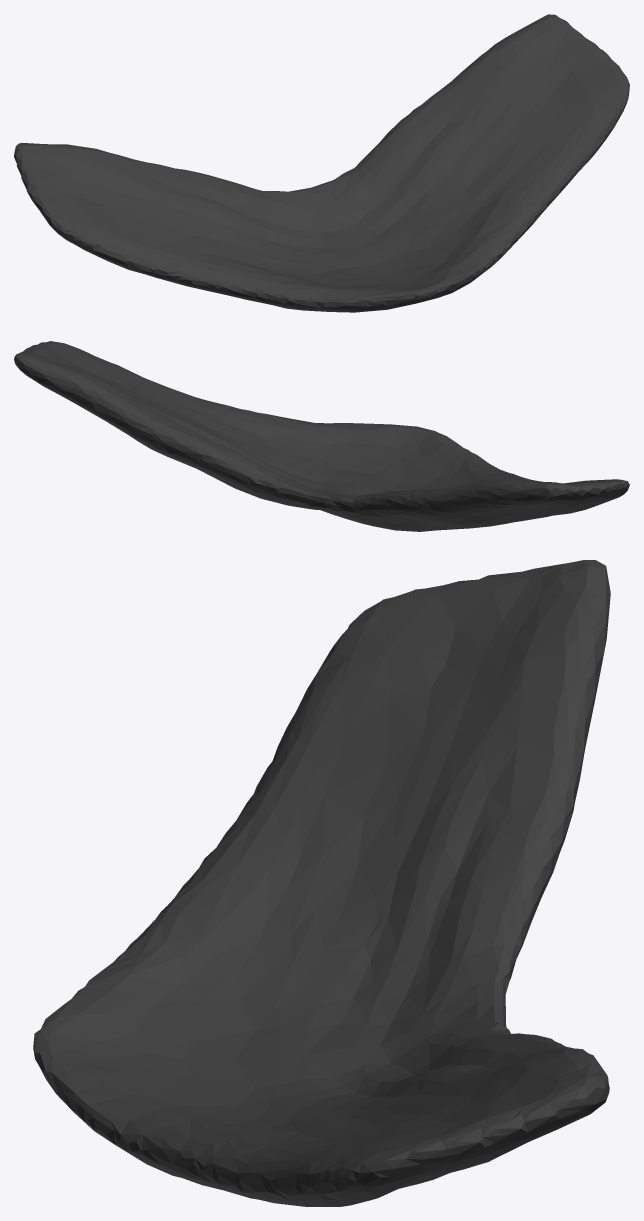
Rendered from m_interscutularis.glb.
The picture shows the model from 3 angles, top to bottom: view 1: azimuth 30°, elevation 25°; view 2: azimuth 150°, elevation 25°; view 3: azimuth 270°, elevation 25°; orthographic projection. The views are drawn at different scales.
Parts seen in each view (by area): view 1: m_interscutularis; view 2: m_interscutularis; view 3: m_interscutularis.
Part boxes in pixels (left/top/right/bottom): m_interscutularis: left=14, top=14, right=629, bottom=312; m_interscutularis: left=14, top=341, right=629, bottom=531; m_interscutularis: left=33, top=560, right=610, bottom=1206.
Bounding box in the file's own units: 0.00174 × 0.000393 × 0.00075.
1 material, 1 textured.
